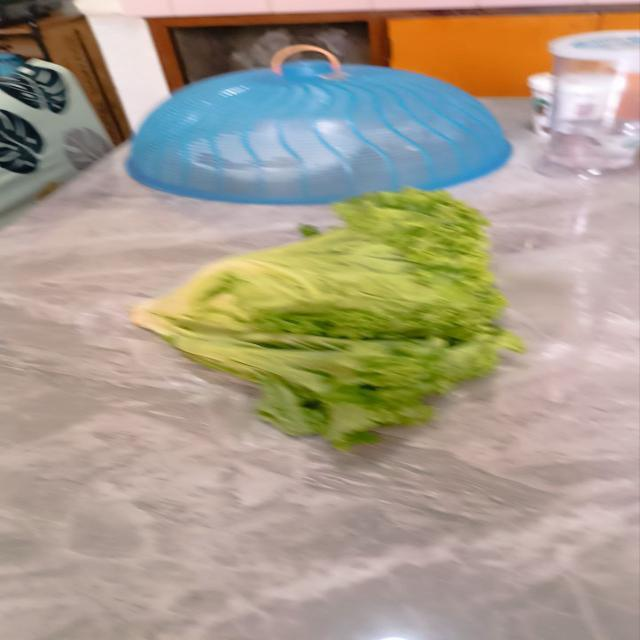Lettuce-Ready-to-Harvest: (139, 189, 506, 432)
